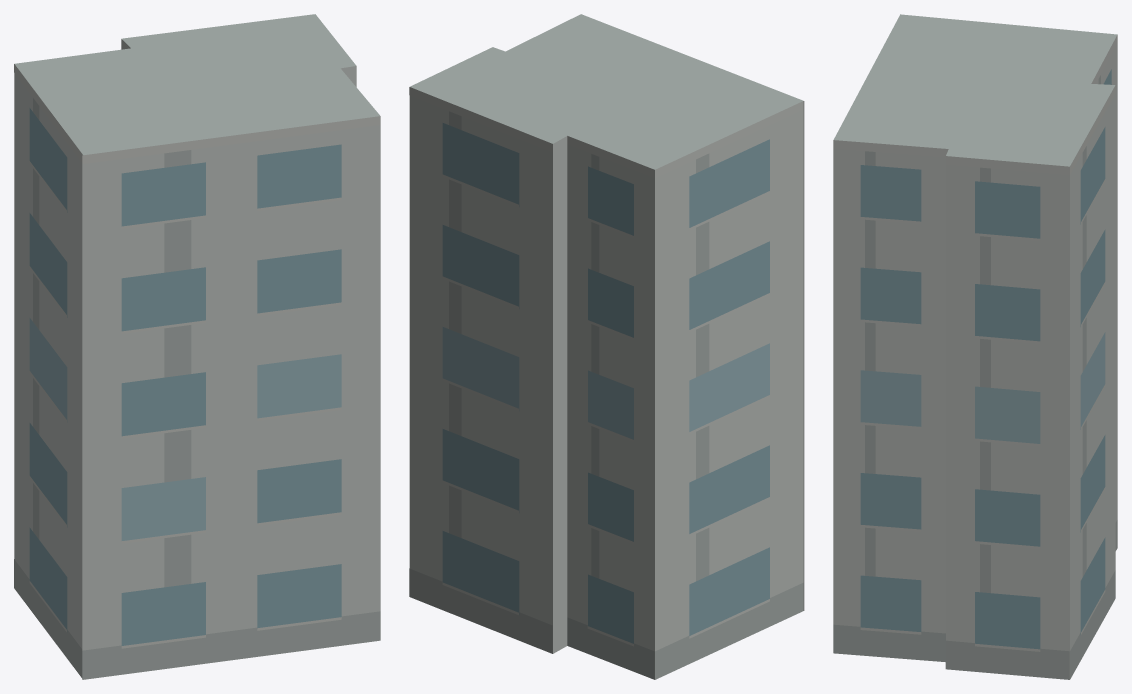
Rendered from survey-upis-32598994.glb.
3 renders of one model, left to right at view 1: azimuth 30°, elevation 25°; view 2: azimuth 150°, elevation 25°; view 3: azimuth 270°, elevation 25°, orthographic. The views are drawn at different scales.
Parts seen in each view (by area): view 1: survey-upis-32598994.tmp; view 2: survey-upis-32598994.tmp; view 3: survey-upis-32598994.tmp.
Part boxes in pixels (x1=…): survey-upis-32598994.tmp: x1=14, y1=14, x2=380, y2=679; survey-upis-32598994.tmp: x1=409, y1=14, x2=804, y2=679; survey-upis-32598994.tmp: x1=833, y1=14, x2=1117, y2=679.
Size of the model in its own units: 9.19 by 14.4 by 7.24.
